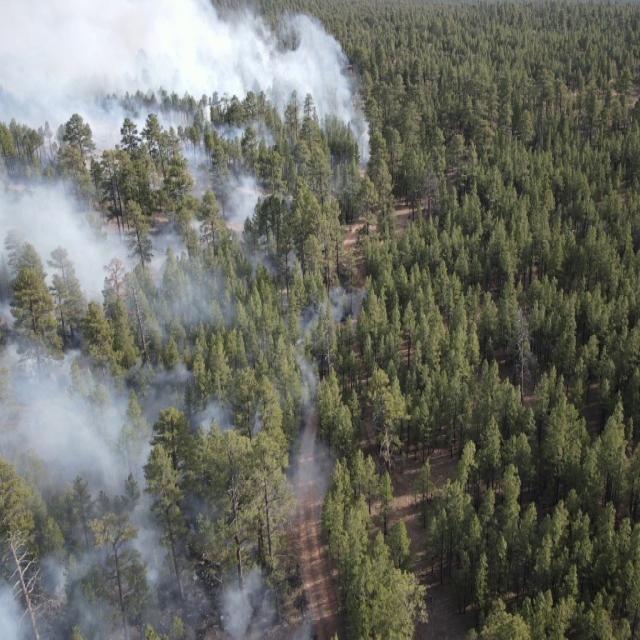smoke: (0, 171, 352, 640), (0, 1, 375, 170)
